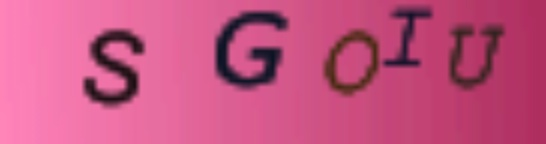G: (209, 8, 291, 93)
I: (379, 5, 436, 69)
O: (323, 27, 385, 98)
S: (76, 26, 149, 112)
U: (444, 21, 510, 92)
